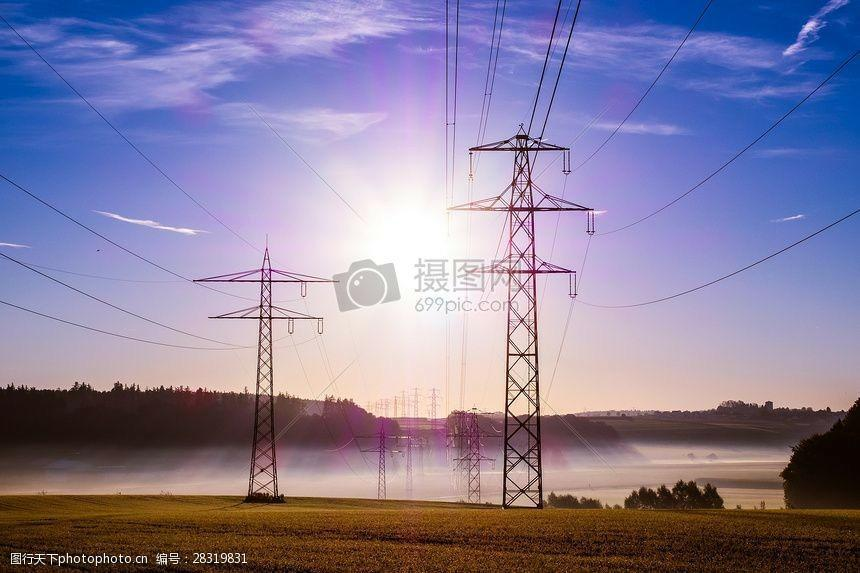power_tower: (472, 121, 590, 504), (203, 230, 336, 497), (356, 406, 408, 499), (460, 399, 501, 507)
